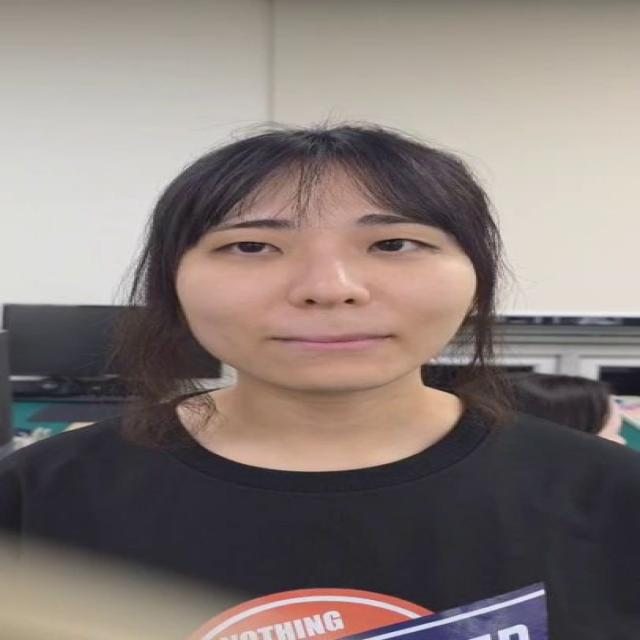eyes: (199, 230, 454, 270)
face: (170, 128, 486, 396)
iris_center: (375, 236, 406, 253), (237, 238, 262, 256)
